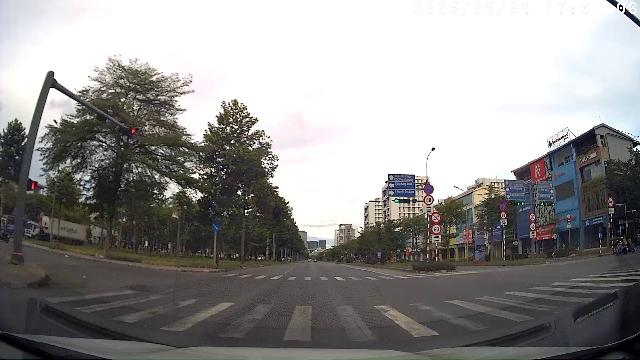127-toc-do-toi-da-60: (431, 224, 441, 234), (530, 223, 536, 231)
127-toc-do-toi-da-80: (424, 195, 434, 205), (500, 212, 508, 218)
130-cam-dung-va-do-xe: (424, 184, 434, 194), (499, 202, 507, 211)
